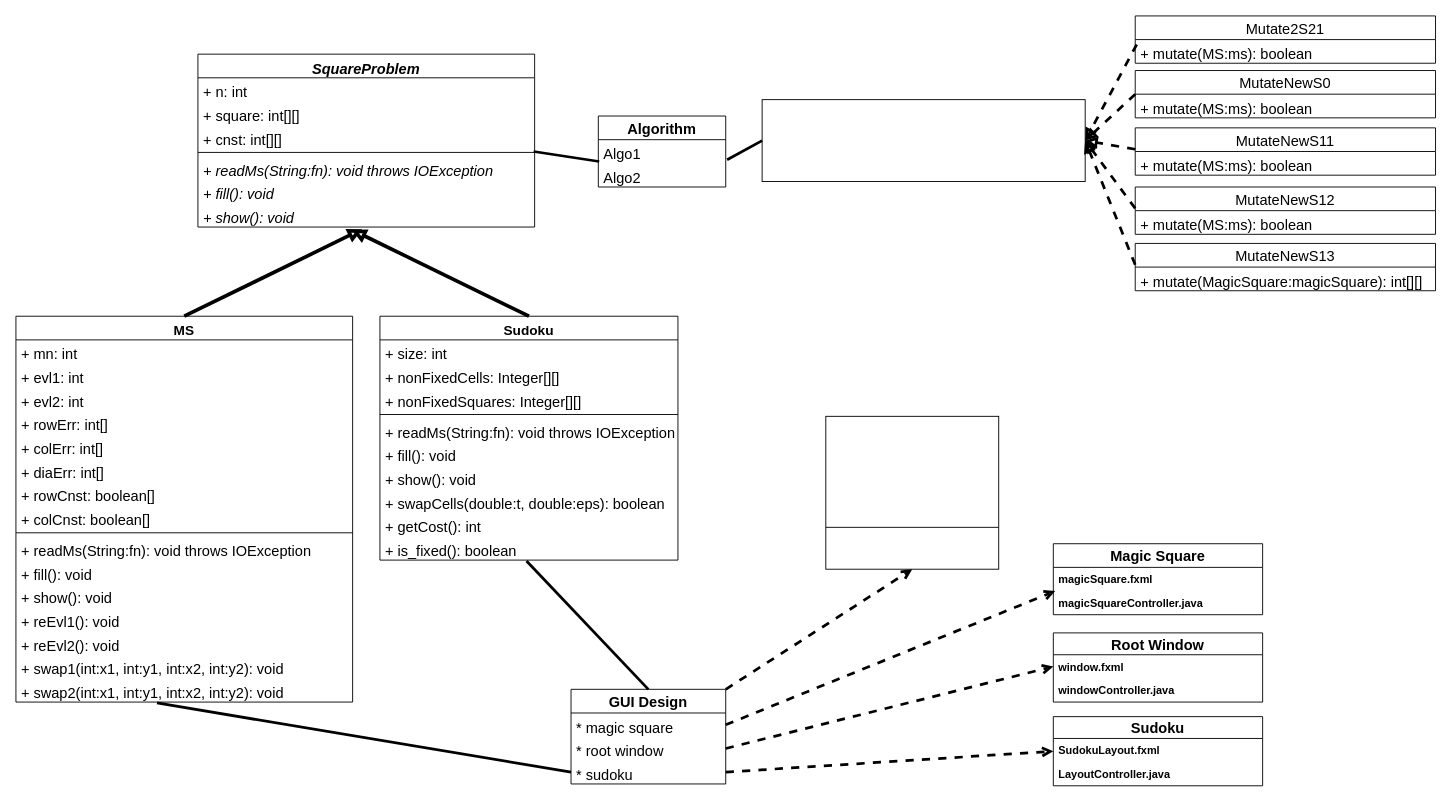
The diagram is 1451 pixels wide and 804 high, and some of its shapes have lost their labels. Each missing label, with the centre of its shape:
"<<Enumeration>> Condition START PAUSED CONTINUE + toString(): String" belongs at point (912, 492).
"<<Interface>> MutateNew + mutate(MS:ms): boolean" belongs at point (923, 140).
